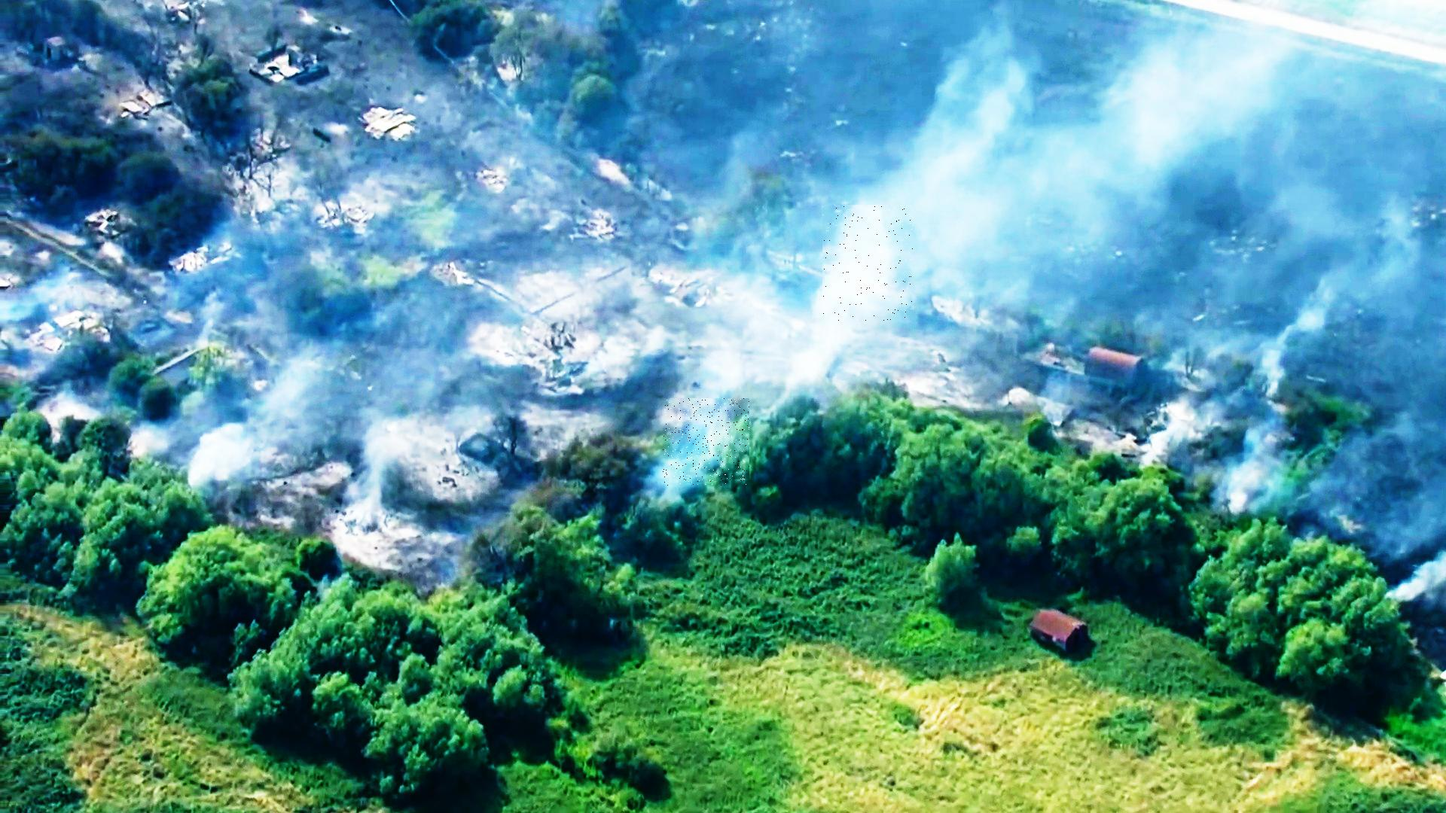smoke: (823, 205, 914, 321), (663, 398, 750, 486)
